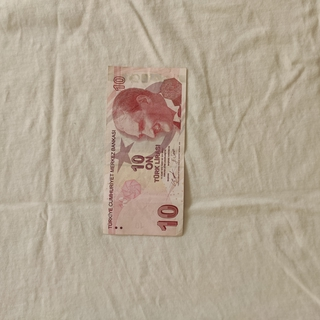10TLFront: (100, 64, 187, 237)
